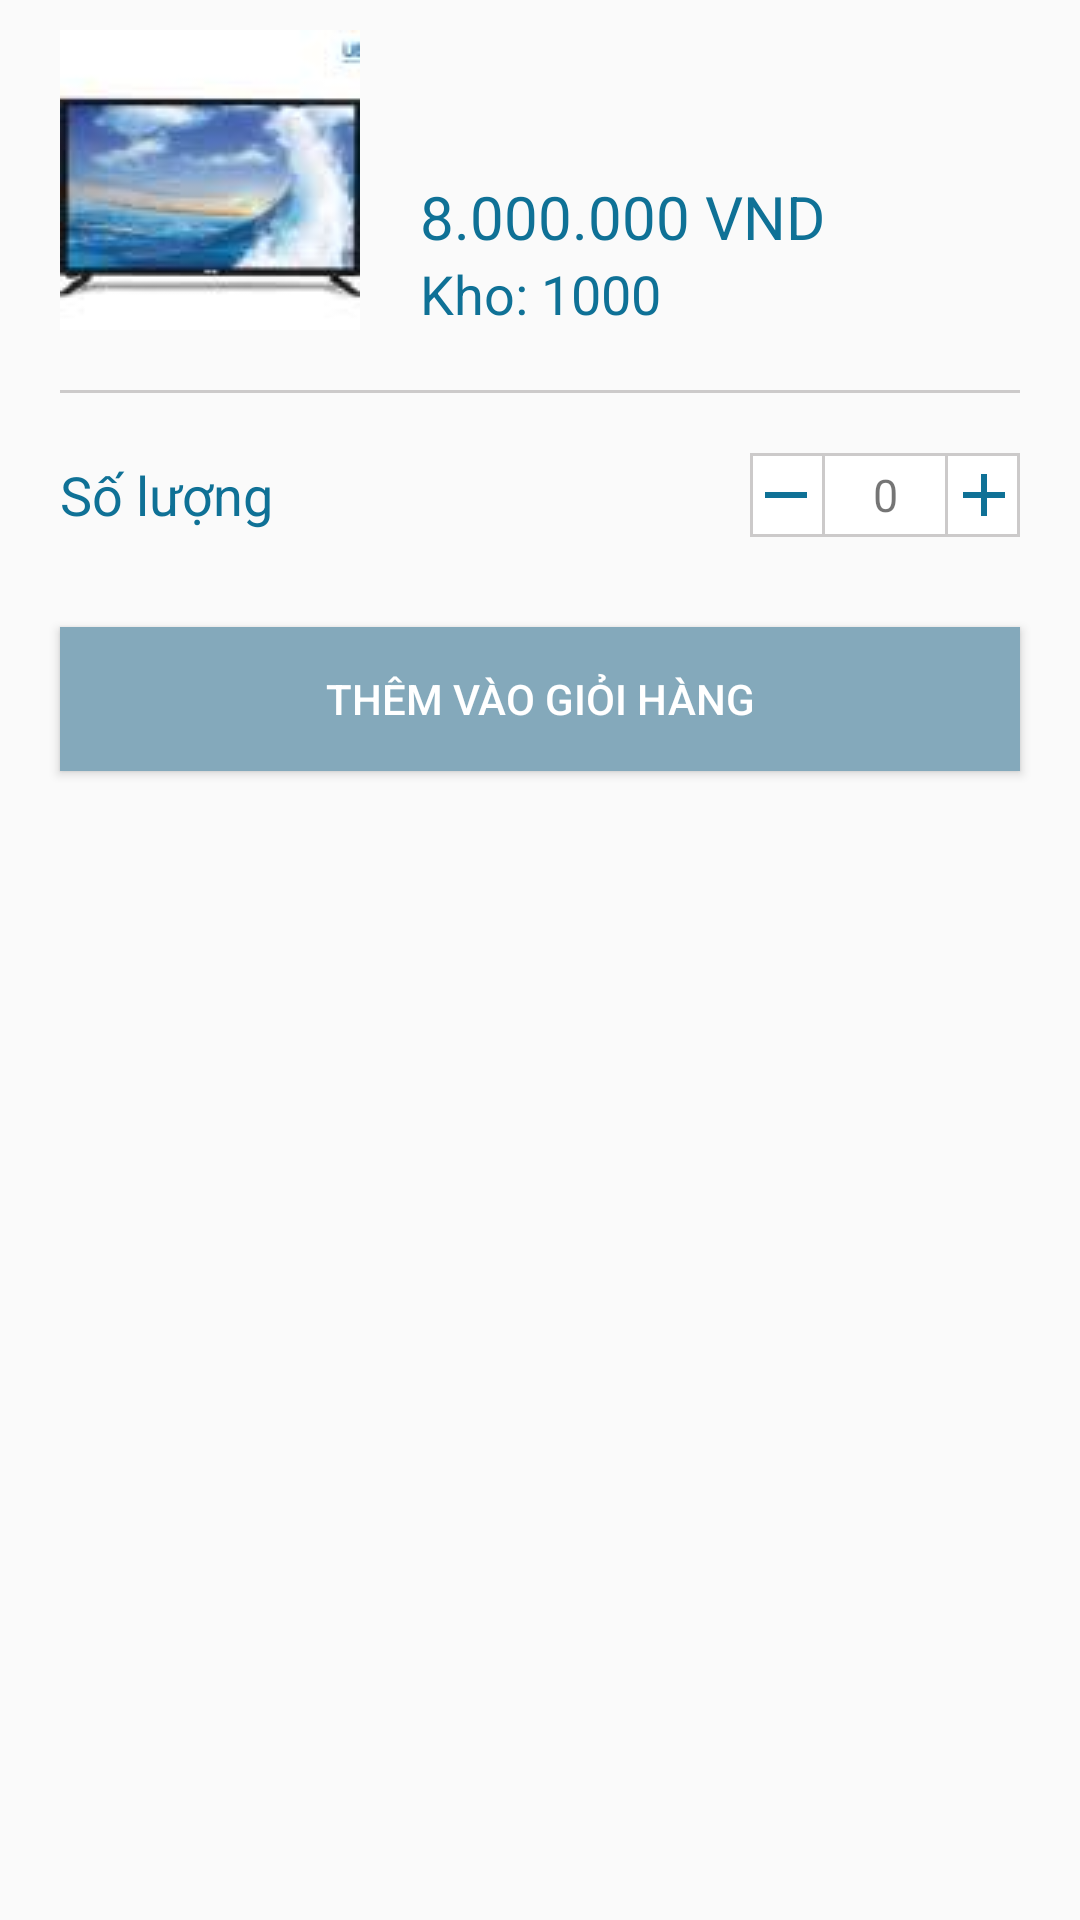

Icon bounding boxes for this 1080×1920 phone screenshot, format [x1,y1,x2,y2]:
plus: [963,474,1005,516]
